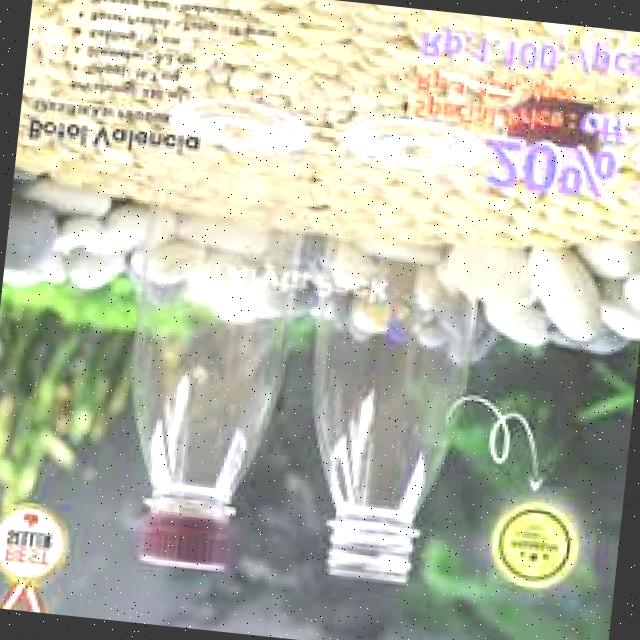bottle: (68, 102, 330, 591), (294, 107, 504, 608)
cap: (130, 508, 242, 572)
